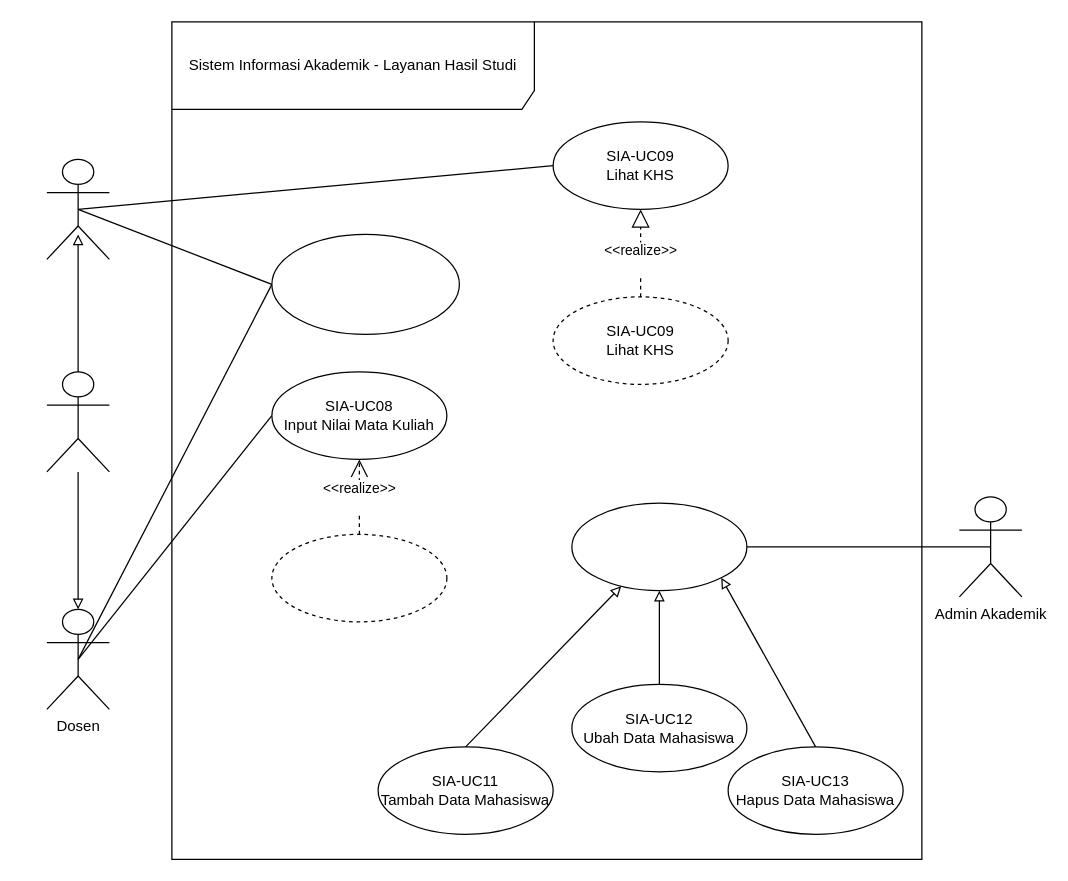
This 1068x881 diagram has some shape labels left out. Here are the shapes that lost their labels. From the top down, the box of each, then its label:
(46, 158, 109, 259): Mahasiswa
(271, 233, 459, 334): SIA-UC07 Lihat Kalender Akademik
(46, 371, 109, 472): Civitas Akademik
(571, 502, 747, 591): SIA-UC10 Kelola Data Mahasiswa
(271, 533, 447, 622): SIA-CO01 Input Nilai Mata Kuliah
